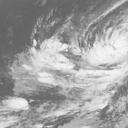cyclone: (80, 31, 127, 85)
